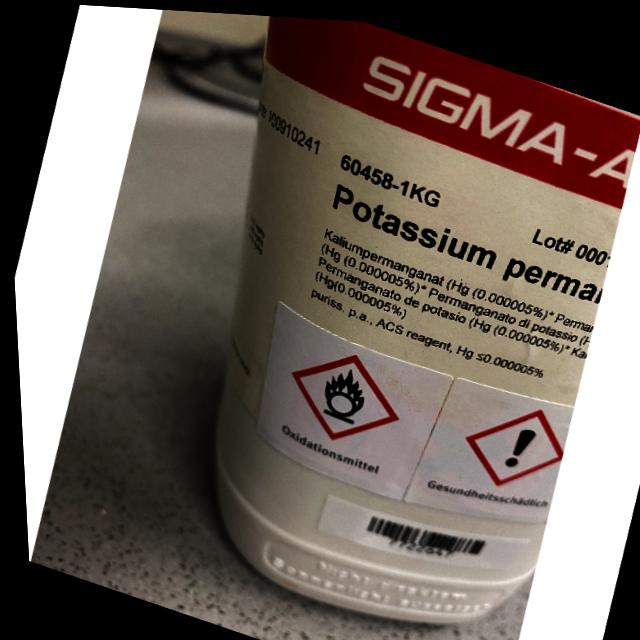health-ozone layer hazard: (447, 380, 569, 498)
oxidising: (270, 328, 411, 455)
